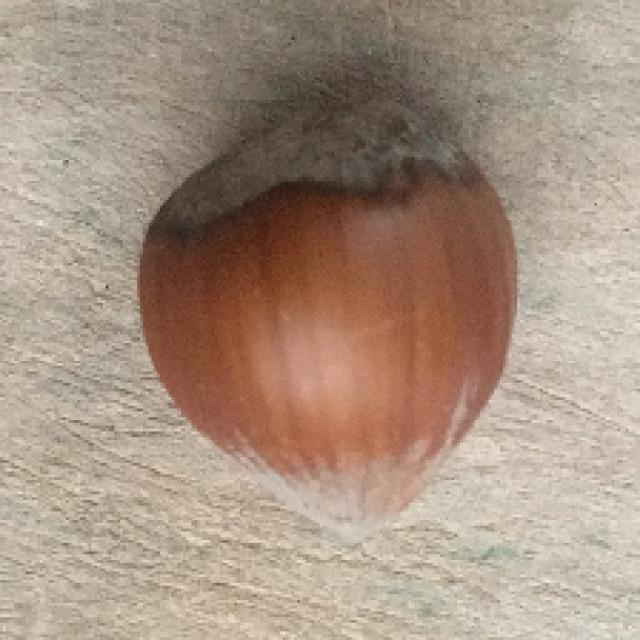qualityHazelnut: (137, 98, 520, 555)
